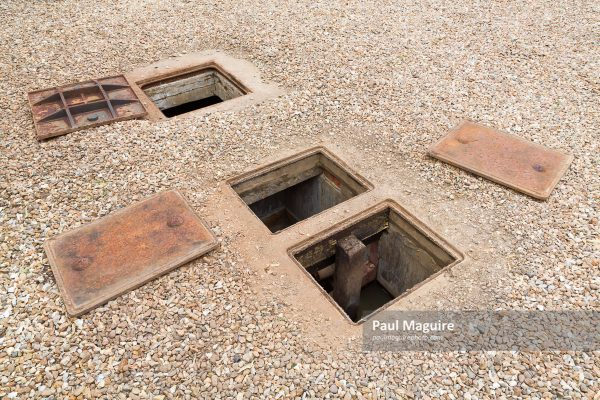Open_manhole: (198, 142, 475, 327), (17, 55, 253, 127)
